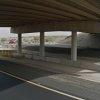Bridge: (5, 1, 99, 54)
